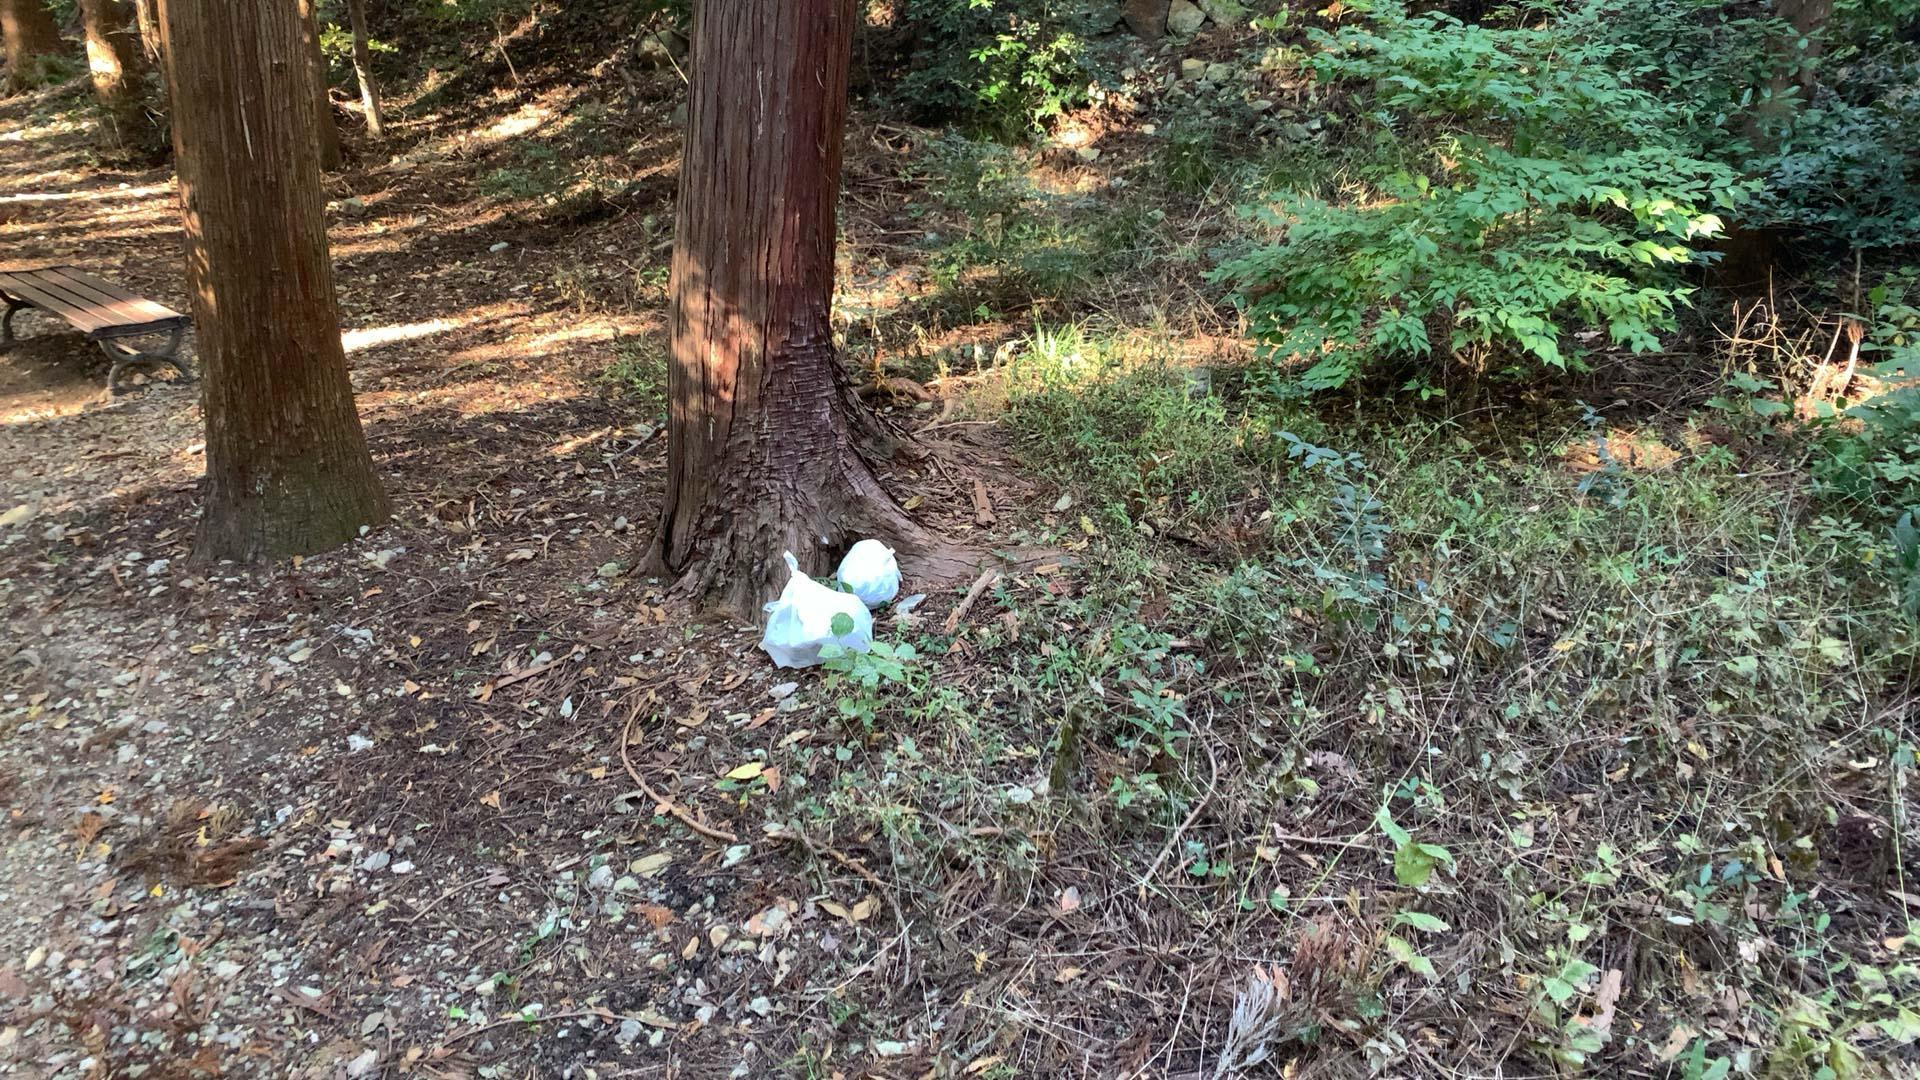white_bag: (754, 545, 876, 673), (835, 537, 905, 609)
